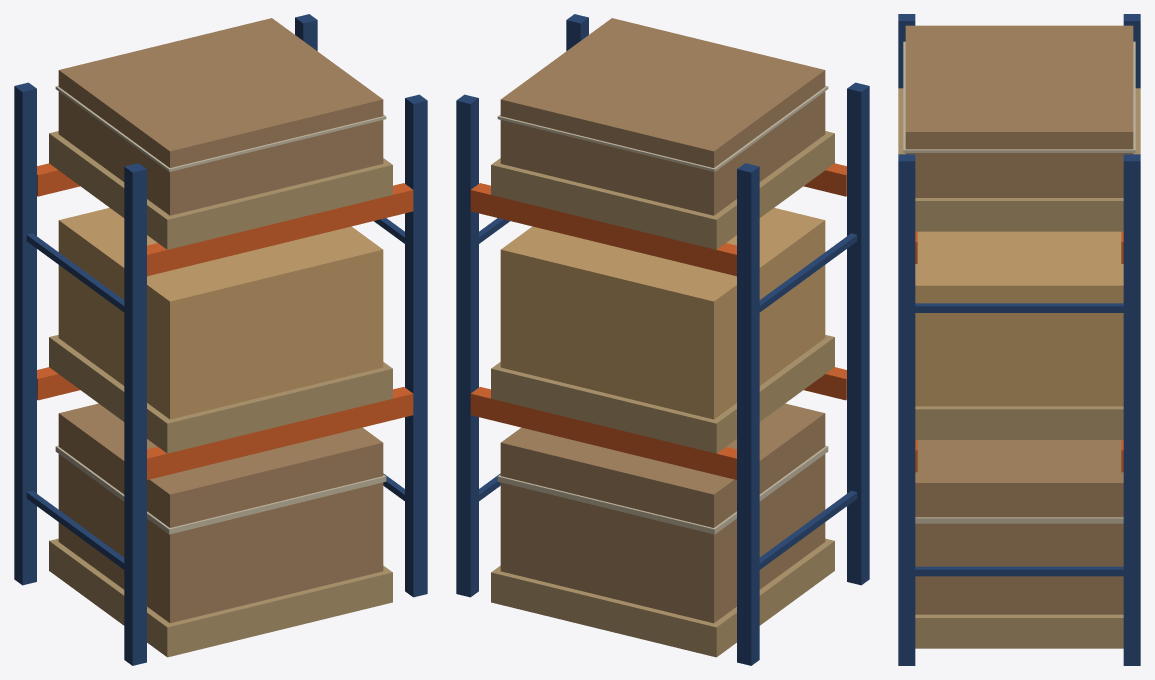
File: pallet_racking.glb
3 views of the same model, side by side, from view 1: azimuth 30°, elevation 25°; view 2: azimuth 150°, elevation 25°; view 3: azimuth 270°, elevation 25° (orthographic). The views are drawn at different scales.
Parts seen in each view (by area): view 1: pallet_racking; view 2: pallet_racking; view 3: pallet_racking.
Part boxes in pixels (box(x1,y1,x2,y2)): pallet_racking: box(14, 14, 427, 665); pallet_racking: box(456, 14, 869, 665); pallet_racking: box(898, 14, 1140, 665).
Size of the model in its own units: 1.44 by 2.34 by 1.
1 material, 1 textured.
